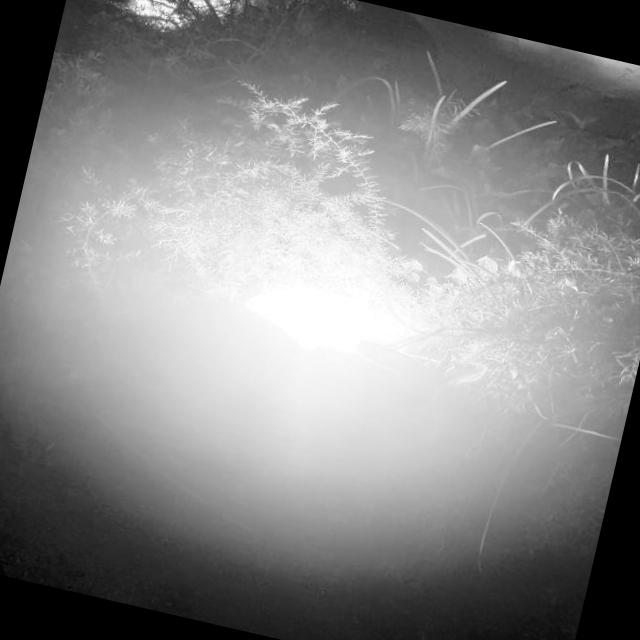Light: (227, 261, 430, 380)
